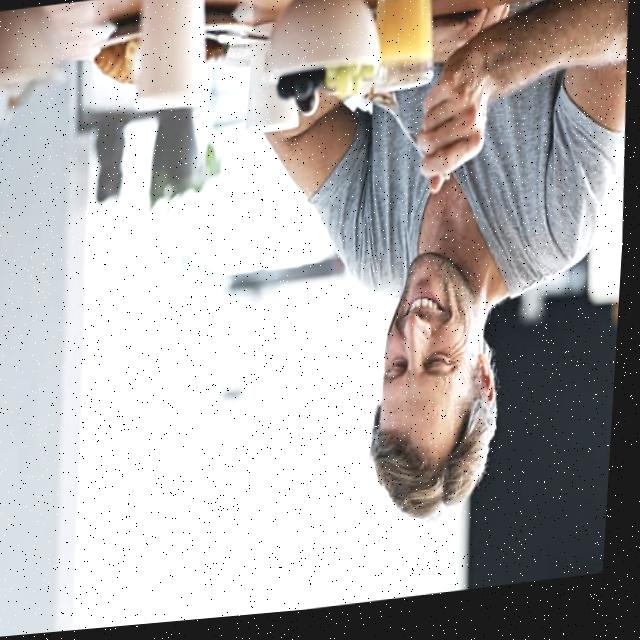eating-person: (219, 0, 640, 559)
